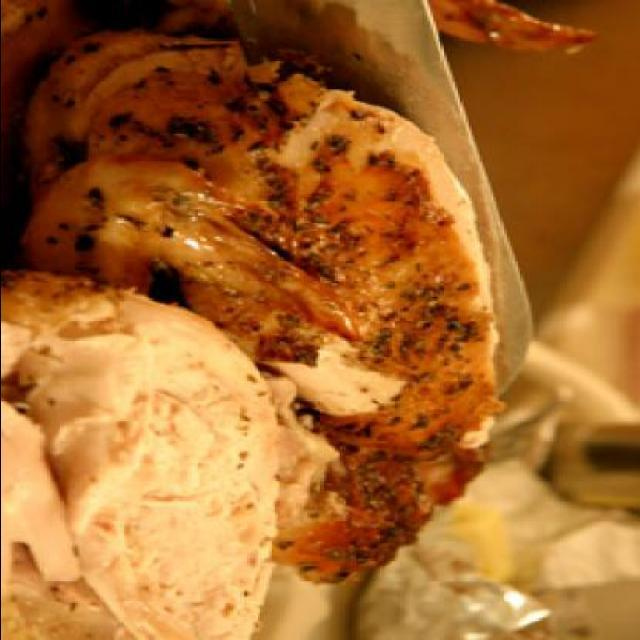Chicken roast: (85, 62, 528, 536)
